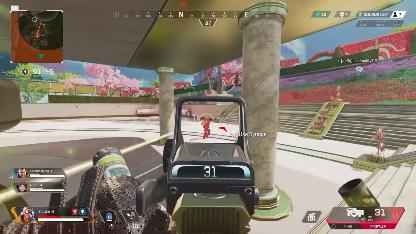Target: (202, 115, 210, 138)
